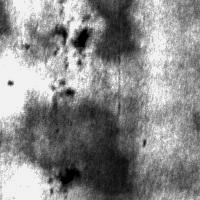patches: (14, 101, 132, 193), (61, 143, 147, 200), (89, 1, 137, 59), (57, 23, 92, 53), (50, 165, 82, 192)
